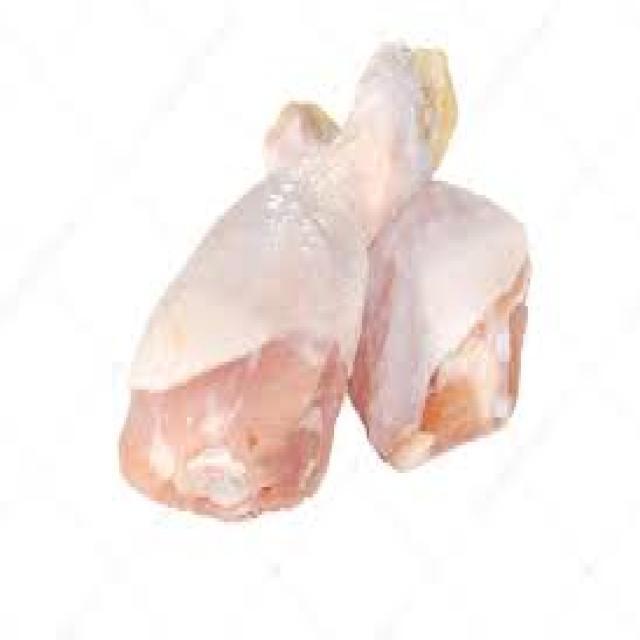leg: (148, 46, 424, 542), (260, 89, 530, 466)
